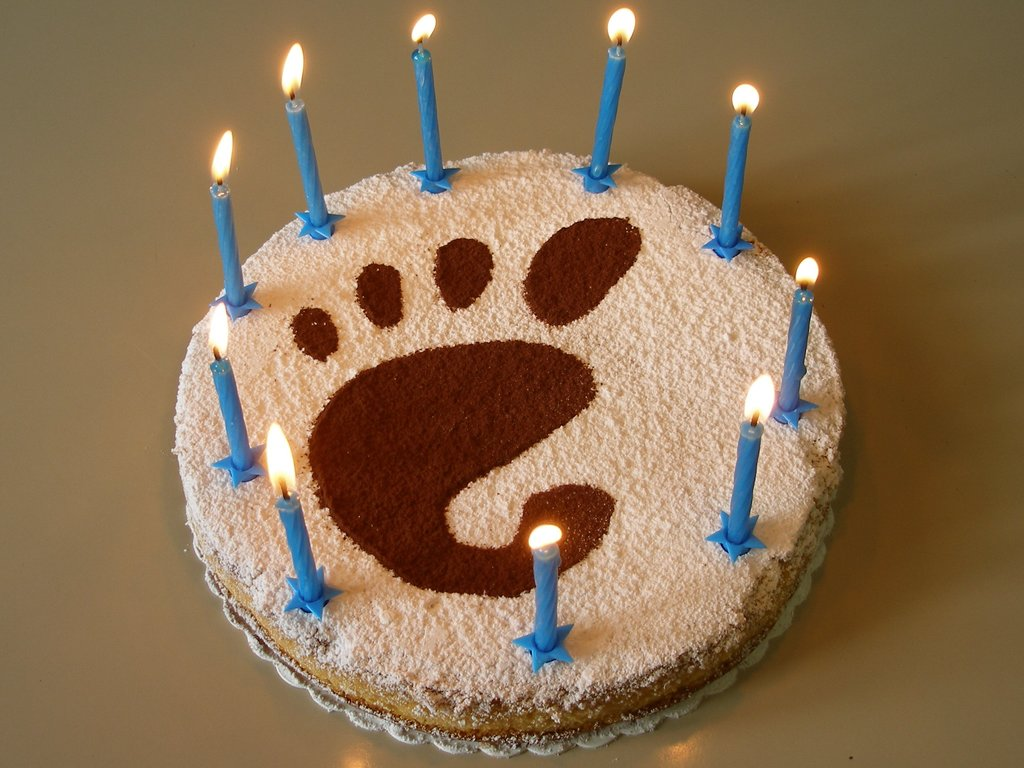cake: (173, 150, 851, 754)
